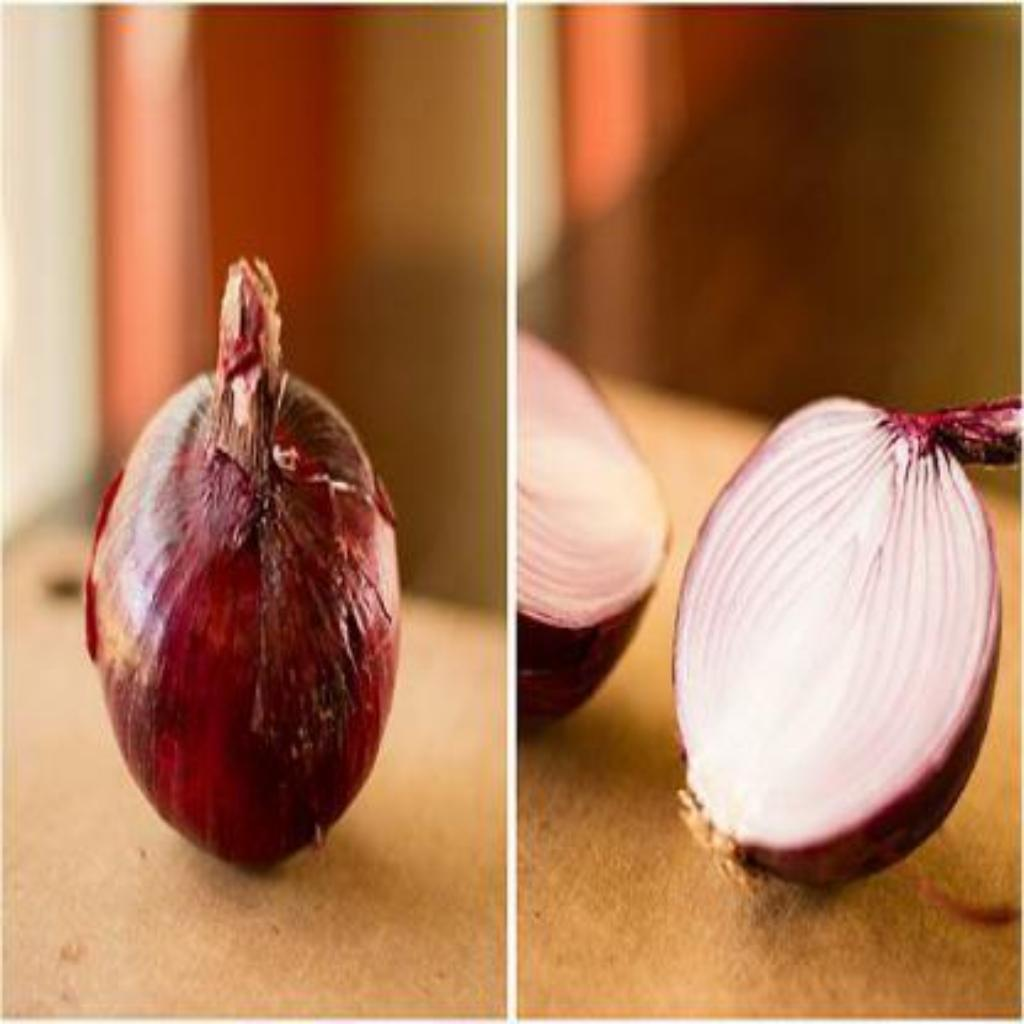Onion: (86, 258, 399, 868)
